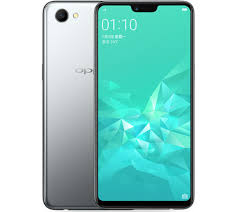oppo: (92, 1, 194, 210)
